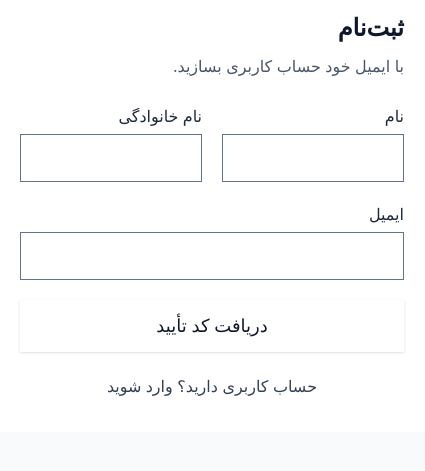
Test: registration answers and checks › auth_email_already_exists: under the email field, with «ورود» for that email
Type "نیما" into the field labelled "نام" at (313, 158), box [223,135,403,181]
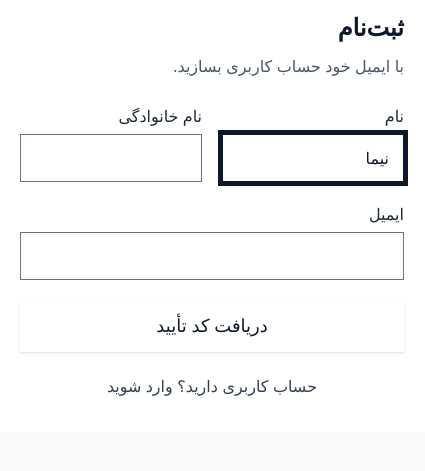
Type "رضایی" into the field labelled "نام خانوادگی" at (111, 158), box [21,135,201,181]
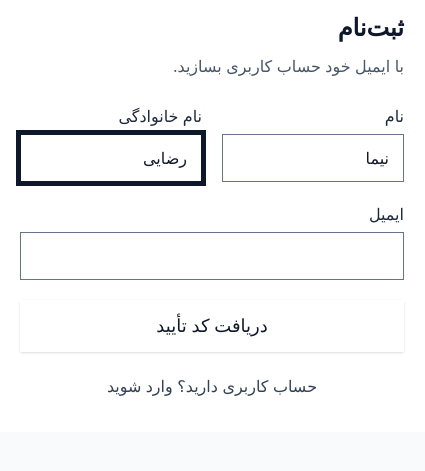
Type "sara.ahmadi@example.com" into the field labelled "ایمیل" at (212, 256), box [21,233,403,279]
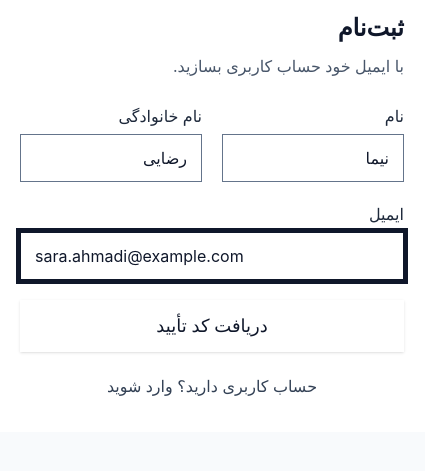
Click the button "دریافت کد تأیید" at (212, 326), box [20,300,404,352]
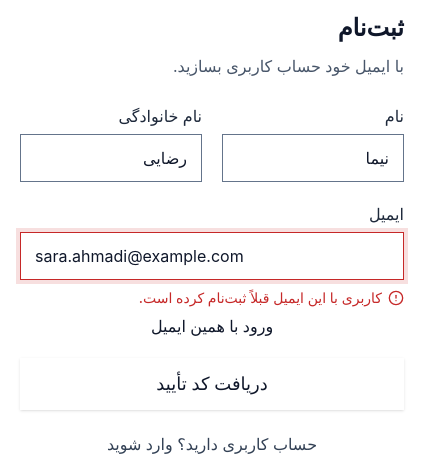
Click the link "ورود با همین ایمیل" at (212, 326), box [151,316,273,336]
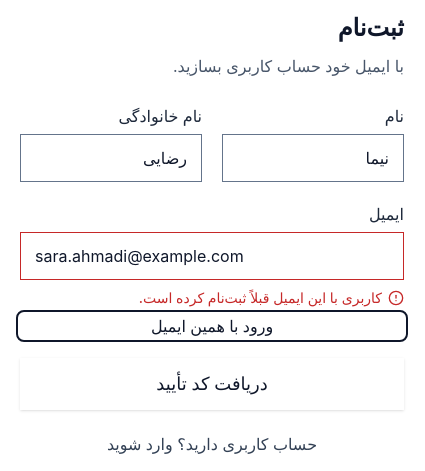
Type "x" into the field labelled "ایمیل" at (212, 256), box [21,233,403,279]
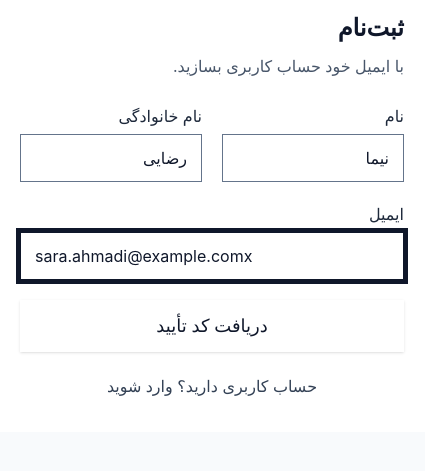
Expected: the link "ورود با همین ایمیل" is gone
